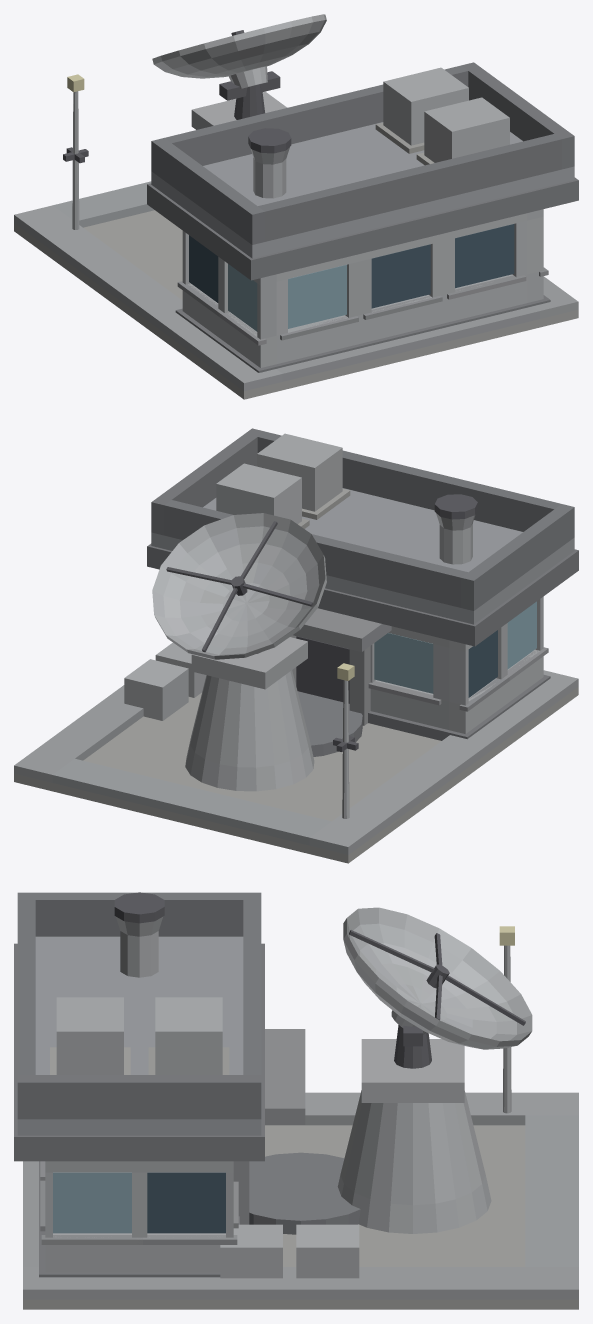
Rendered from western_radar.glb.
3 views of the same model, one above another, from view 1: azimuth 30°, elevation 25°; view 2: azimuth 150°, elevation 25°; view 3: azimuth 270°, elevation 25° (orthographic). The views are drawn at different scales.
Visible parts, largest first — view 1: block_parapet, block_wall, apron_rim, block_deck, block_glass, block_fascia, apron, block_plant, radar, block_sill, block_vents, block_base (+2 smaller); view 2: block_parapet, apron_rim, radar, apron, pedestal, block_deck, block_wall, block_plant, block_fascia, block_glass, cabinets, pedestal_head (+6 smaller); view 3: apron_rim, block_parapet, pedestal, block_deck, apron, radar, block_plant, block_wall, block_glass, block_fascia, cabinets, pedestal_head (+5 smaller).
Boxes of the visible parts, box(x1,y1,x2,y2) form: block_parapet: box(151, 62, 574, 244); block_wall: box(182, 209, 543, 367); apron_rim: box(14, 181, 578, 391); block_deck: box(151, 122, 574, 258); block_glass: box(189, 224, 514, 331); block_fascia: box(147, 177, 578, 280); apron: box(14, 210, 578, 399); block_plant: box(375, 67, 509, 165); radar: box(152, 14, 326, 119); block_sill: box(177, 267, 548, 345); block_vents: box(248, 128, 291, 198); block_base: box(175, 295, 550, 372); block_parapet: box(151, 428, 574, 610); apron_rim: box(14, 670, 578, 854); radar: box(152, 513, 326, 659); apron: box(14, 687, 578, 863); pedestal: box(185, 670, 362, 791); block_deck: box(151, 488, 574, 624); block_wall: box(290, 596, 543, 733); block_plant: box(216, 433, 350, 528); block_fascia: box(147, 543, 578, 646); block_glass: box(374, 601, 536, 697); cabinets: box(124, 642, 206, 720); pedestal_head: box(191, 637, 307, 689); apron_rim: box(23, 1092, 578, 1299); block_parapet: box(17, 892, 261, 1119); pedestal: box(249, 1090, 491, 1234); block_deck: box(17, 936, 261, 1135); apron: box(23, 1125, 578, 1309); radar: box(343, 907, 532, 1068); block_plant: box(50, 997, 229, 1074); block_wall: box(45, 1161, 249, 1272); block_glass: box(53, 1172, 225, 1233); block_fascia: box(14, 943, 264, 1161); cabinets: box(220, 1224, 359, 1278); pedestal_head: box(361, 1039, 464, 1102).
Size of the model in its own units: 10.4 by 7.02 by 12.6.
